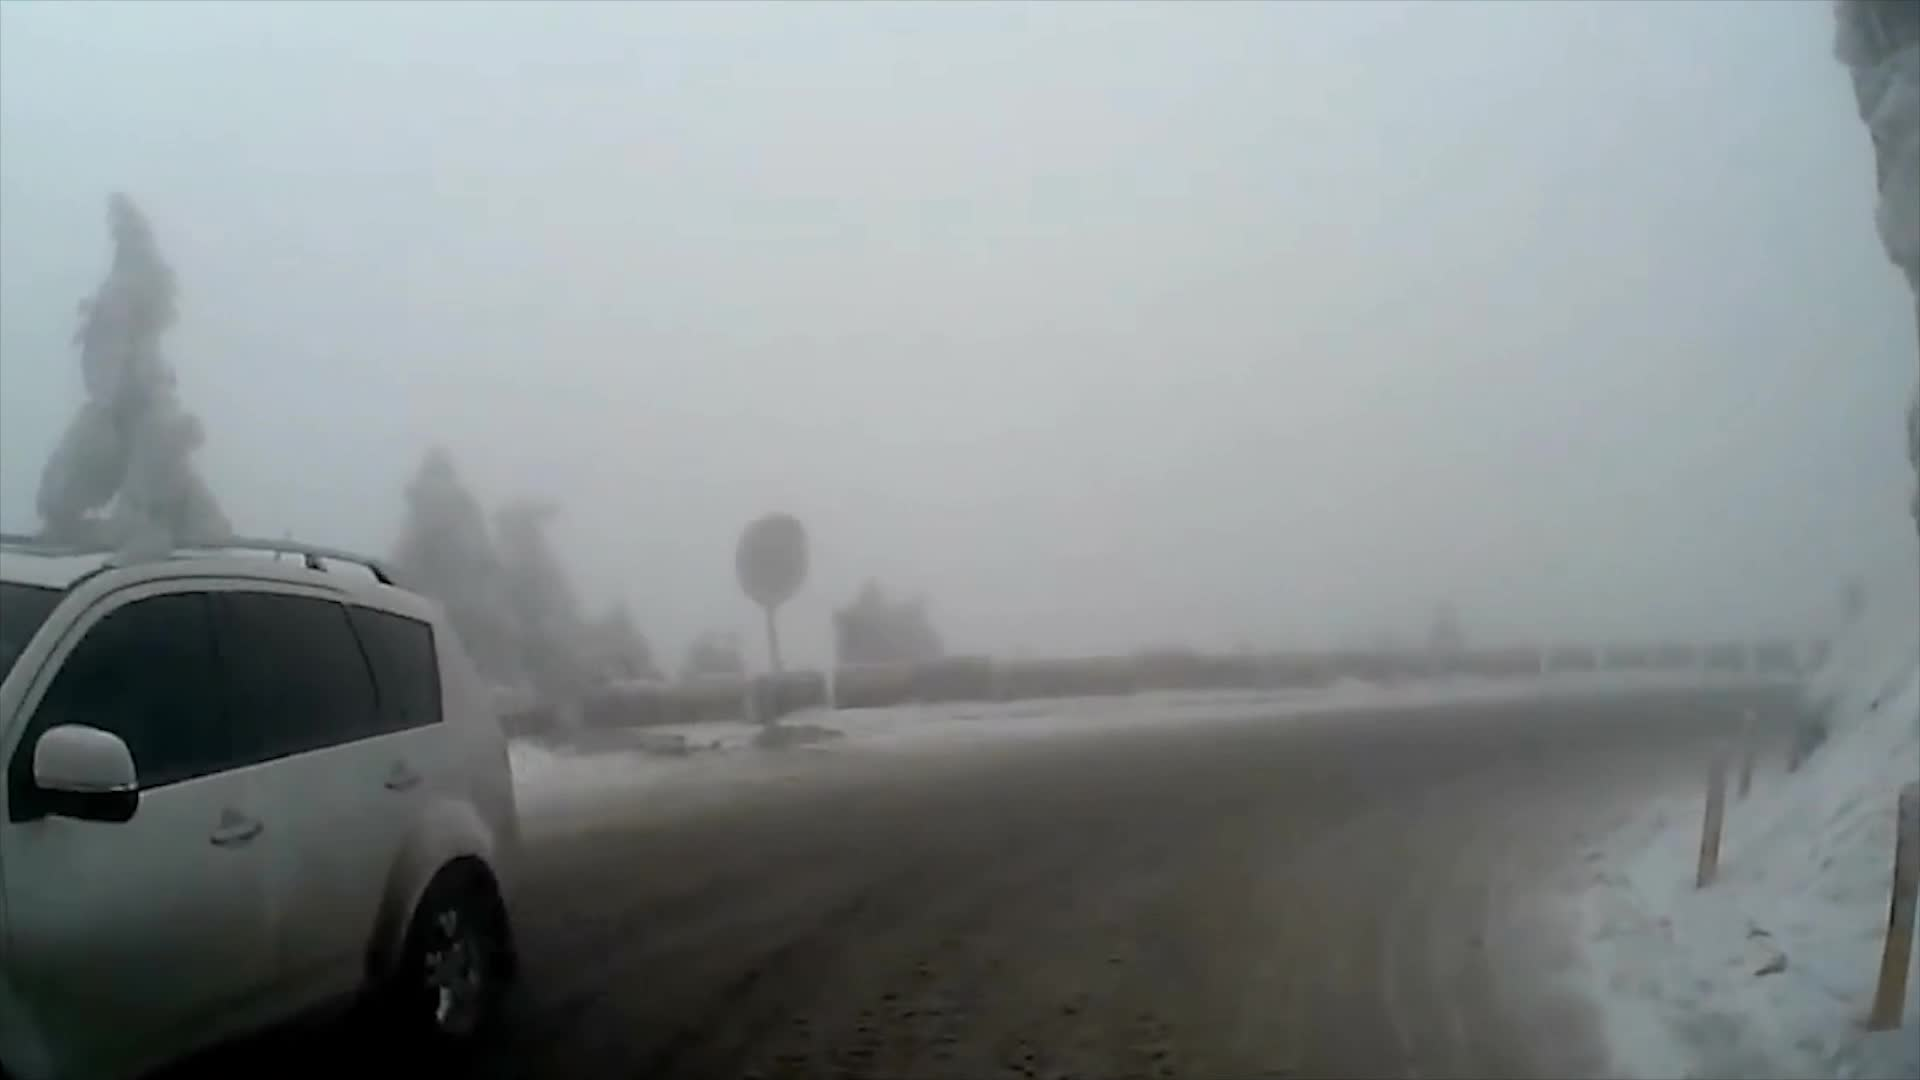vehicle: (0, 529, 521, 1080)
